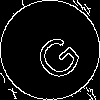G: (25, 25, 85, 85)
